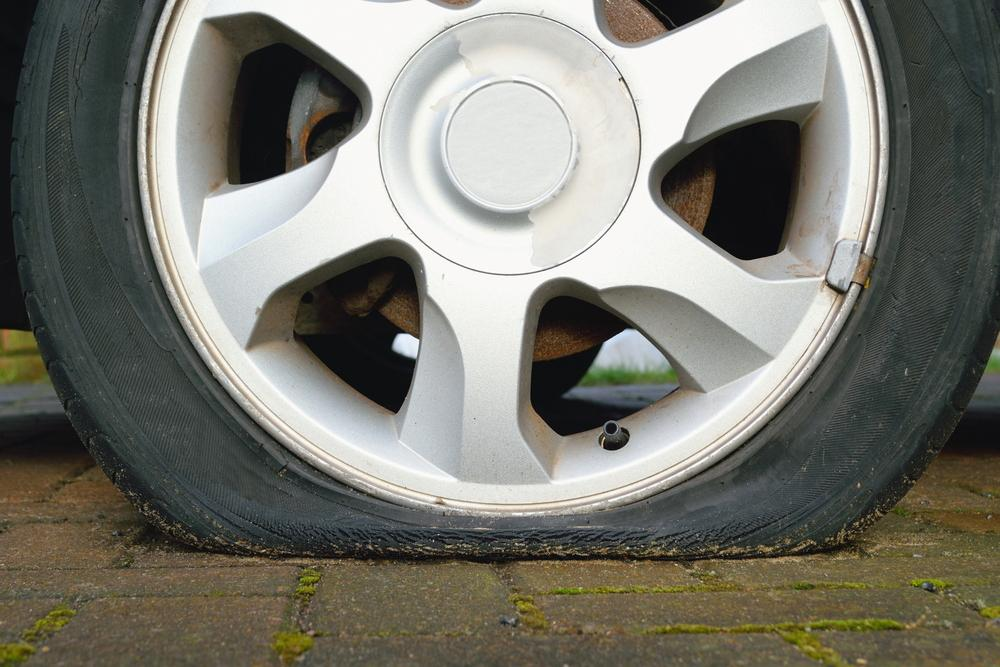tire flat: (10, 0, 1000, 562)
